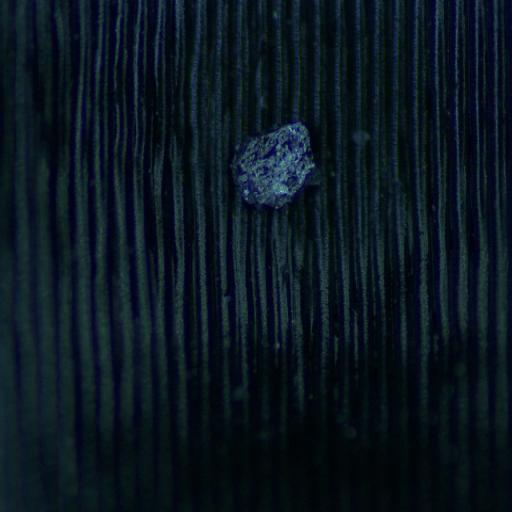mineral: (231, 122, 320, 209)
